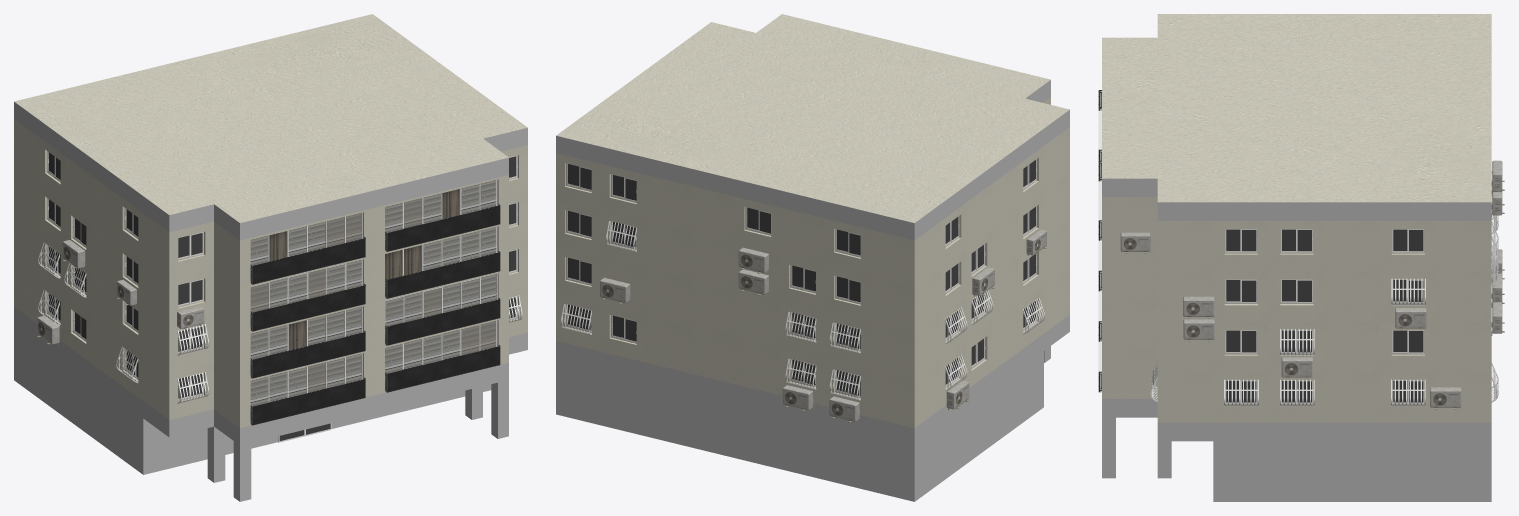
The model's file is SM_Building_01_a.fbx.
The picture shows the model from 3 angles, left to right: view 1: azimuth 30°, elevation 25°; view 2: azimuth 150°, elevation 25°; view 3: azimuth 270°, elevation 25°; orthographic projection. The views are drawn at different scales.
Parts seen in each view (by area): view 1: SM_Building_01_a; view 2: SM_Building_01_a; view 3: SM_Building_01_a.
Boxes of the visible parts, x1,y1,x2,y2 form: SM_Building_01_a: [14, 14, 527, 501]; SM_Building_01_a: [556, 14, 1069, 501]; SM_Building_01_a: [1098, 14, 1504, 501].
Size of the model in its own units: 2538 by 1785 by 2190.
